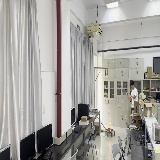fire: (107, 109, 112, 131)
